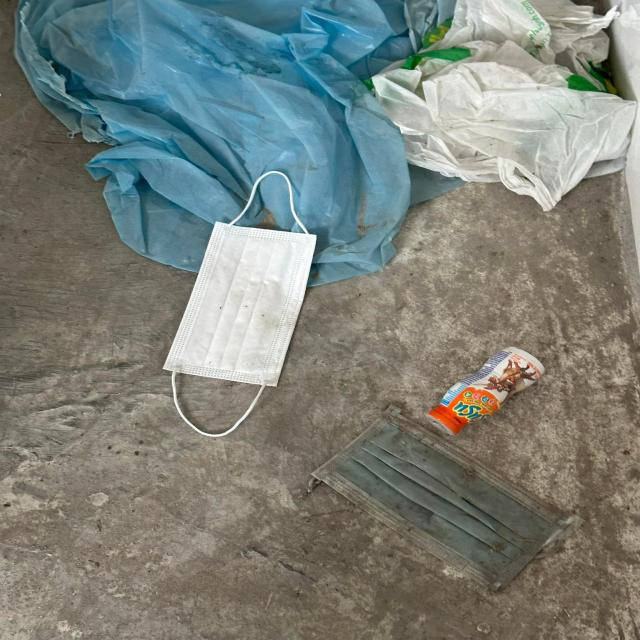bag: (14, 0, 464, 287), (372, 0, 639, 211)
bottle: (427, 349, 546, 436)
mask: (310, 402, 574, 596), (164, 172, 317, 437)
